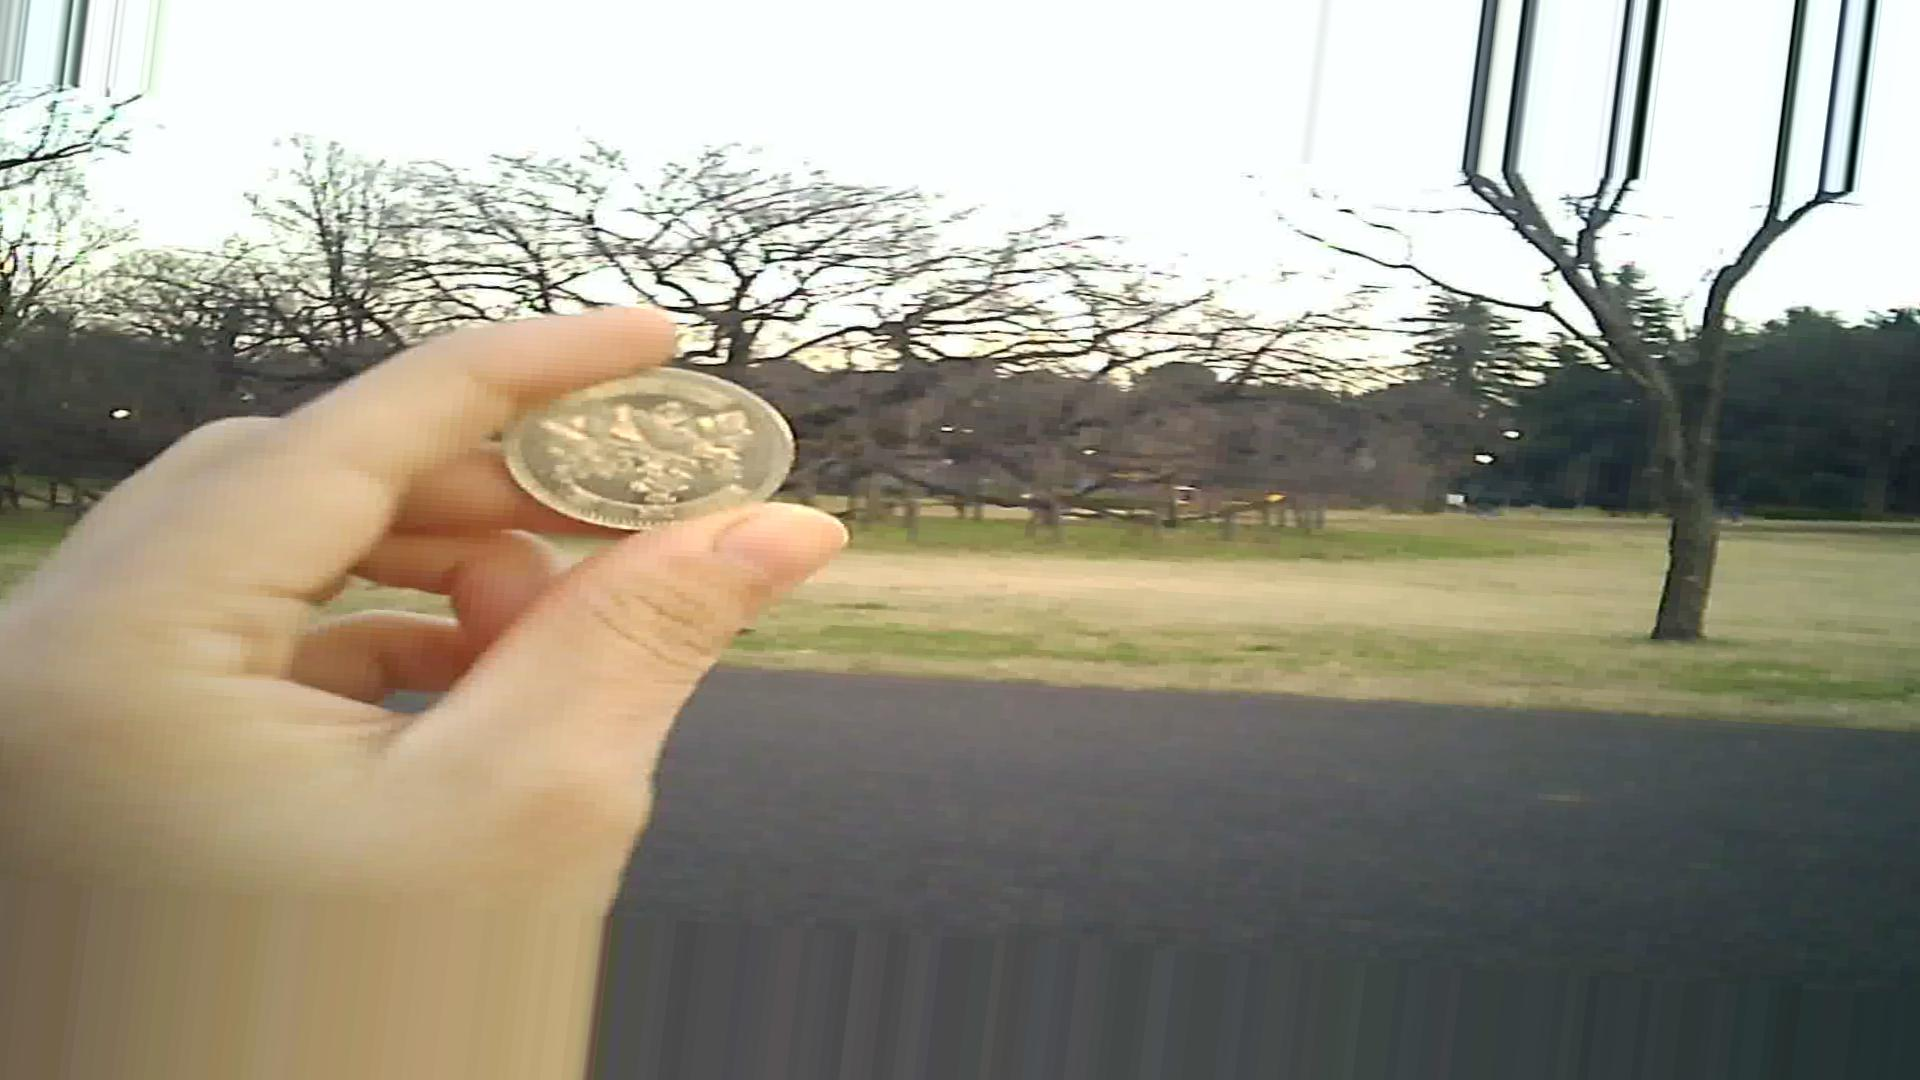500 Yen: (487, 369, 818, 556)
